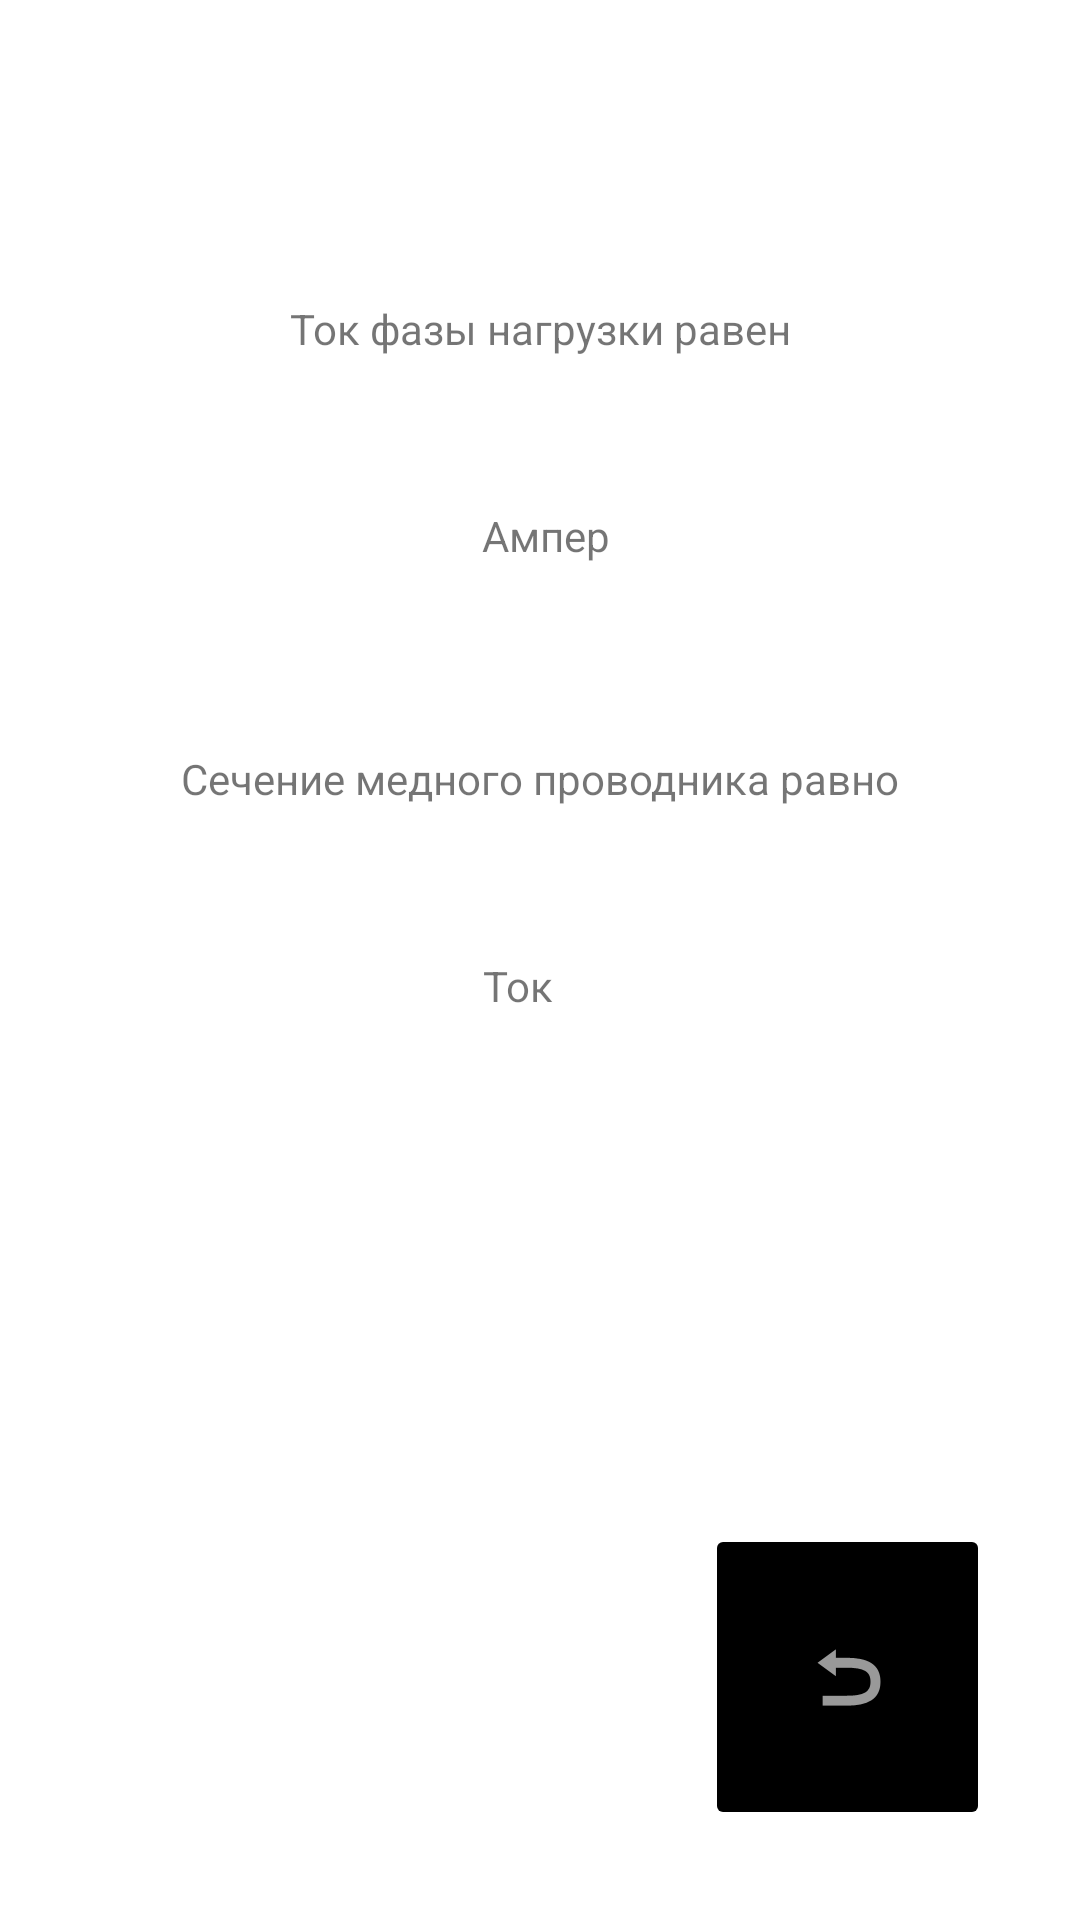

Where icons sit on this 1080 x 1920 app screen, as (x1, y1, x2, y2):
backcable: (717, 1542, 978, 1812)
